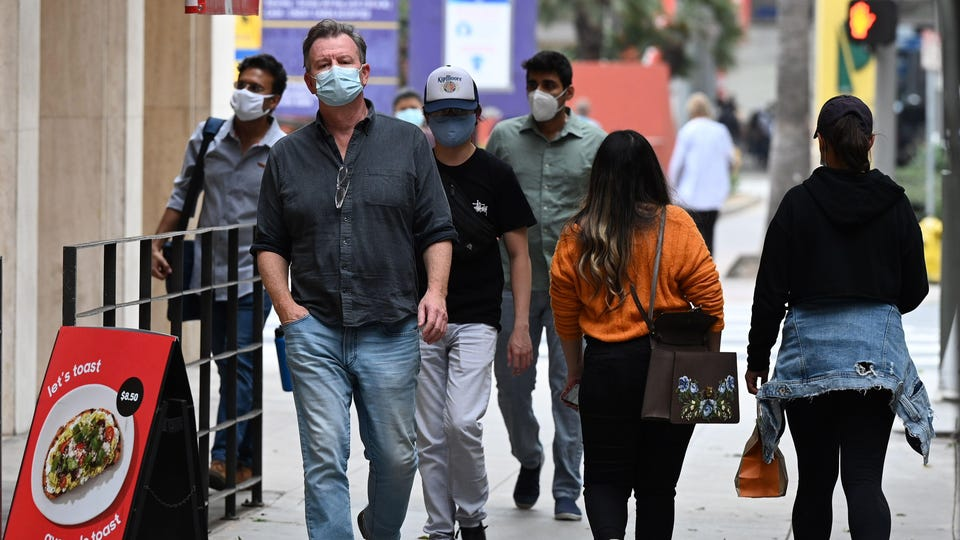with_mask: (311, 45, 365, 106), (425, 102, 476, 149), (229, 72, 275, 122), (525, 76, 564, 124)
